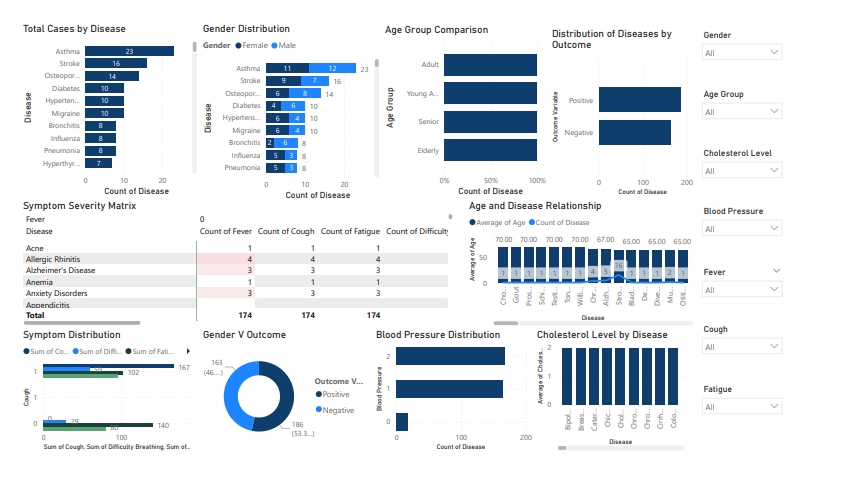

Layout of this report page (visuals, bound fields, positions):
{"tool":"powerbi","page":{"name":"Page 1","canvas":[1280,720],"ordinal":0},"visuals":[{"type":"barChart","title":"Total Cases by Disease","fields":{"Category":["Cleaned_Disease_Symptoms_Patients.Disease"],"Y":["CountNonNull(Cleaned_Disease_Symptoms_Patients.Disease)"]},"box":[0,0,300,294.6],"z":0},{"type":"barChart","title":"Gender Distribution","fields":{"Category":["Cleaned_Disease_Symptoms_Patients.Disease"],"Y":["CountNonNull(Cleaned_Disease_Symptoms_Patients.Disease)"],"Series":["Cleaned_Disease_Symptoms_Patients.Gender"]},"box":[300,0,303.6,301.8],"z":1000},{"type":"hundredPercentStackedBarChart","title":"Age Group Comparison","fields":{"Category":["Cleaned_Disease_Symptoms_Patients.Age Group"],"Y":["CountNonNull(Cleaned_Disease_Symptoms_Patients.Disease)"]},"box":[603.6,1.8,278.6,292.9],"z":2000},{"type":"pivotTable","title":"Symptom Severity Matrix","fields":{"Rows":["Cleaned_Disease_Symptoms_Patients.Disease"],"Columns":["Cleaned_Disease_Symptoms_Patients.Fever","Cleaned_Disease_Symptoms_Patients.Cough","Cleaned_Disease_Symptoms_Patients.Fatigue","Cleaned_Disease_Symptoms_Patients.Difficulty Breathing"],"Values":["CountNonNull(Cleaned_Disease_Symptoms_Patients.Fever)","CountNonNull(Cleaned_Disease_Symptoms_Patients.Cough)","CountNonNull(Cleaned_Disease_Symptoms_Patients.Fatigue)","CountNonNull(Cleaned_Disease_Symptoms_Patients.Difficulty Breathing)"]},"box":[0,294.6,726.8,216.1],"z":3000},{"type":"clusteredBarChart","title":"Distribution of Diseases by Outcome","fields":{"Category":["Cleaned_Disease_Symptoms_Patients.Outcome Variable"],"Y":["CountNonNull(Cleaned_Disease_Symptoms_Patients.Disease)"]},"box":[882.1,8.9,244.6,285.7],"z":4000},{"type":"lineStackedColumnComboChart","title":"Age and Disease Relationship","fields":{"Category":["Cleaned_Disease_Symptoms_Patients.Disease"],"Y":["Avg(Cleaned_Disease_Symptoms_Patients.Age)"],"Y2":["CountNonNull(Cleaned_Disease_Symptoms_Patients.Disease)"]},"box":[742.9,294.6,383.9,216.1],"z":5000},{"type":"donutChart","title":"Gender V Outcome","fields":{"Category":["Cleaned_Disease_Symptoms_Patients.Outcome Variable"],"Y":["CountNonNull(Cleaned_Disease_Symptoms_Patients.Gender)"]},"box":[300,510.7,287.5,208.9],"z":6000},{"type":"barChart","title":"Blood Pressure Distribution","fields":{"Category":["Cleaned_Disease_Symptoms_Patients.Blood Pressure"],"Y":["CountNonNull(Cleaned_Disease_Symptoms_Patients.Disease)"]},"box":[587.5,510.7,269.6,208.9],"z":7000},{"type":"clusteredColumnChart","title":"Cholesterol Level by Disease","fields":{"Category":["Cleaned_Disease_Symptoms_Patients.Disease"],"Y":["Avg(Cleaned_Disease_Symptoms_Patients.Cholesterol Level)"]},"box":[857.1,510.7,255.4,208.9],"z":8000},{"type":"clusteredBarChart","title":"Symptom Distribution","fields":{"Y":["Sum(Cleaned_Disease_Symptoms_Patients.Cough)","Sum(Cleaned_Disease_Symptoms_Patients.Difficulty Breathing)","Sum(Cleaned_Disease_Symptoms_Patients.Fatigue)","Sum(Cleaned_Disease_Symptoms_Patients.Fever)"],"Category":["Cleaned_Disease_Symptoms_Patients.Cough","Cleaned_Disease_Symptoms_Patients.Difficulty Breathing","Cleaned_Disease_Symptoms_Patients.Fatigue","Cleaned_Disease_Symptoms_Patients.Fever"]},"box":[0,510.7,300,208.9],"z":8005},{"type":"slicer","fields":{"Values":["Cleaned_Disease_Symptoms_Patients.Gender"]},"box":[1126.8,8.9,153.6,98.2],"z":8006},{"type":"slicer","fields":{"Values":["Cleaned_Disease_Symptoms_Patients.Age Group"]},"box":[1126.8,107.1,153.6,98.2],"z":8007},{"type":"slicer","fields":{"Values":["Cleaned_Disease_Symptoms_Patients.Cholesterol Level"]},"box":[1126.8,205.4,153.6,89.3],"z":8008},{"type":"slicer","fields":{"Values":["Cleaned_Disease_Symptoms_Patients.Blood Pressure"]},"box":[1126.8,301.8,153.6,85.7],"z":8009},{"type":"slicer","fields":{"Values":["Cleaned_Disease_Symptoms_Patients.Fever"]},"box":[1126.8,403.6,153.6,94.6],"z":8010},{"type":"slicer","fields":{"Values":["Cleaned_Disease_Symptoms_Patients.Cough"]},"box":[1126.8,498.2,153.6,100],"z":8011},{"type":"slicer","fields":{"Values":["Cleaned_Disease_Symptoms_Patients.Fatigue"]},"box":[1126.8,598.2,153.6,121.4],"z":8012}]}

Visuals, with their boxes in screenshot pixels (x1, y1, x2, y2), scaled from the page's 1280x720 canvas onto the 865x486 screenshot:
"Total Cases by Disease" barChart: 0,0,203,199
"Gender Distribution" barChart: 203,0,408,204
"Age Group Comparison" hundredPercentStackedBarChart: 408,1,596,199
"Symptom Severity Matrix" pivotTable: 0,199,491,345
"Distribution of Diseases by Outcome" clusteredBarChart: 596,6,761,199
"Age and Disease Relationship" lineStackedColumnComboChart: 502,199,761,345
"Gender V Outcome" donutChart: 203,345,397,485
"Blood Pressure Distribution" barChart: 397,345,579,485
"Cholesterol Level by Disease" clusteredColumnChart: 579,345,752,485
"Symptom Distribution" clusteredBarChart: 0,345,203,485
slicer - Cleaned_Disease_Symptoms_Patients.Gender: 761,6,864,72
slicer - Cleaned_Disease_Symptoms_Patients.Age Group: 761,72,864,139
slicer - Cleaned_Disease_Symptoms_Patients.Cholesterol Level: 761,139,864,199
slicer - Cleaned_Disease_Symptoms_Patients.Blood Pressure: 761,204,864,262
slicer - Cleaned_Disease_Symptoms_Patients.Fever: 761,272,864,336
slicer - Cleaned_Disease_Symptoms_Patients.Cough: 761,336,864,404
slicer - Cleaned_Disease_Symptoms_Patients.Fatigue: 761,404,864,485
